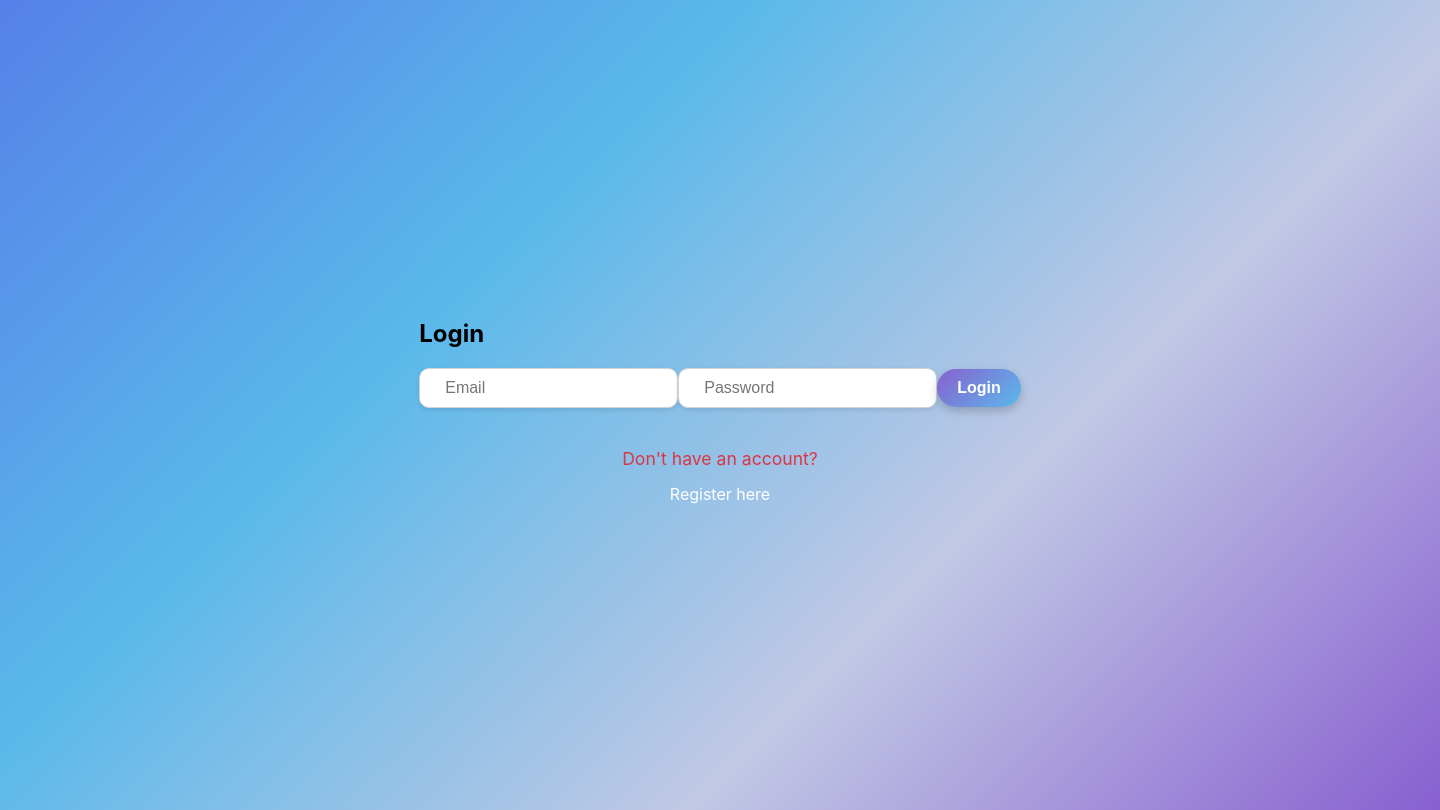
Login Component Tests › successful login
Type "test@example.com" into the field with placeholder "Email".
click(549, 388); type("test@example.com")  # box [419, 368, 678, 408]
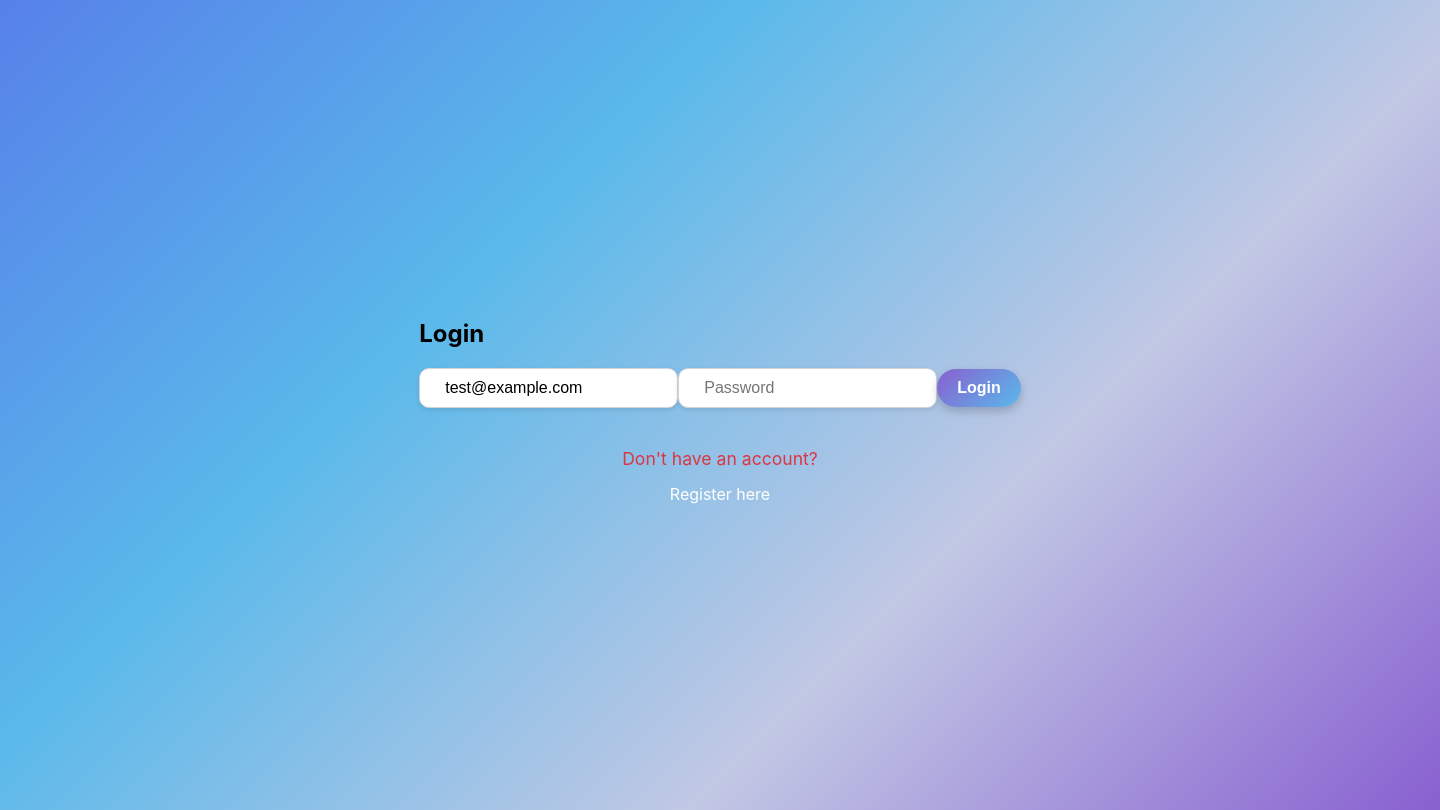
Type "password" into the password field with placeholder "Password".
click(808, 388); type("password")  # box [678, 368, 937, 408]
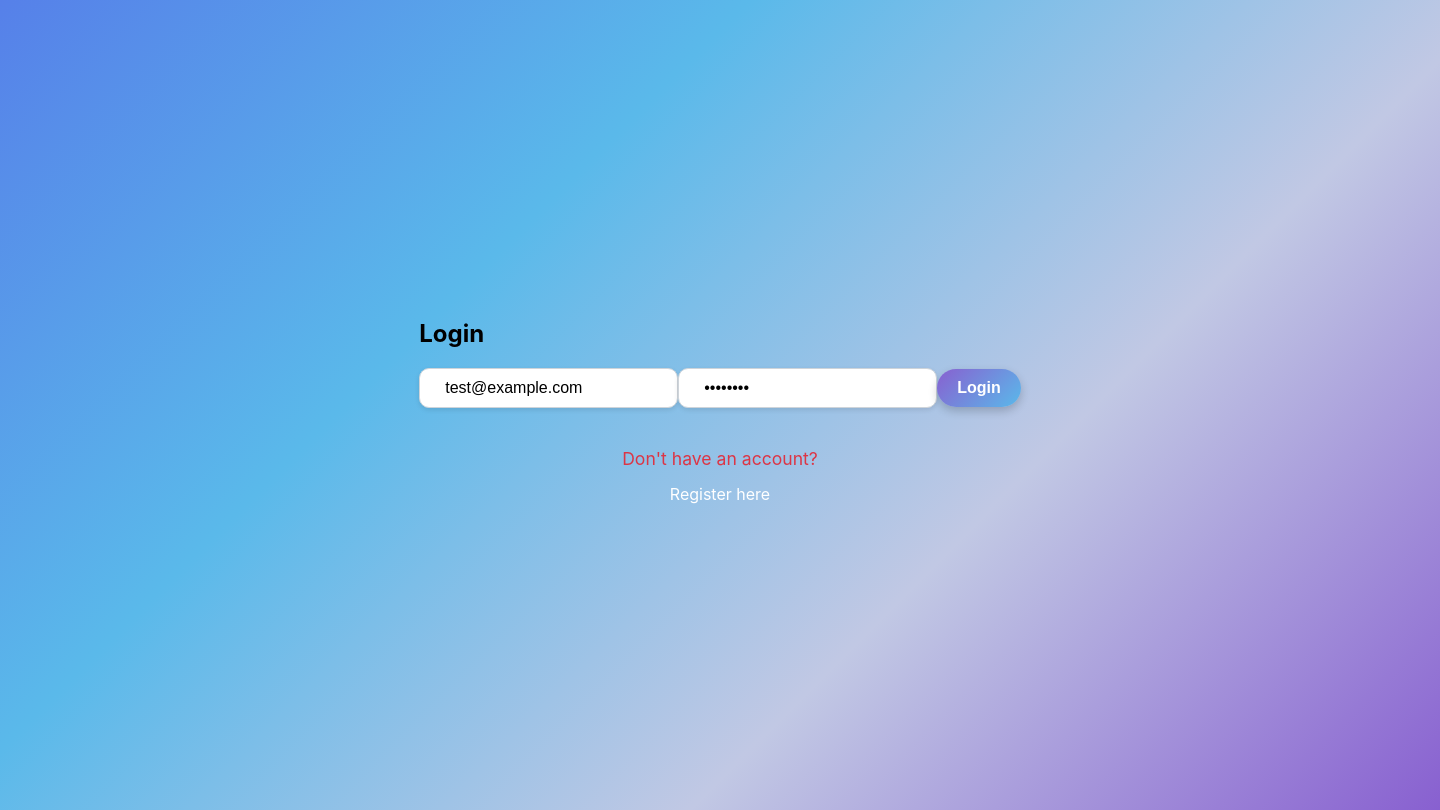
Click the button "Login".
click(979, 388)  # box [937, 369, 1021, 407]
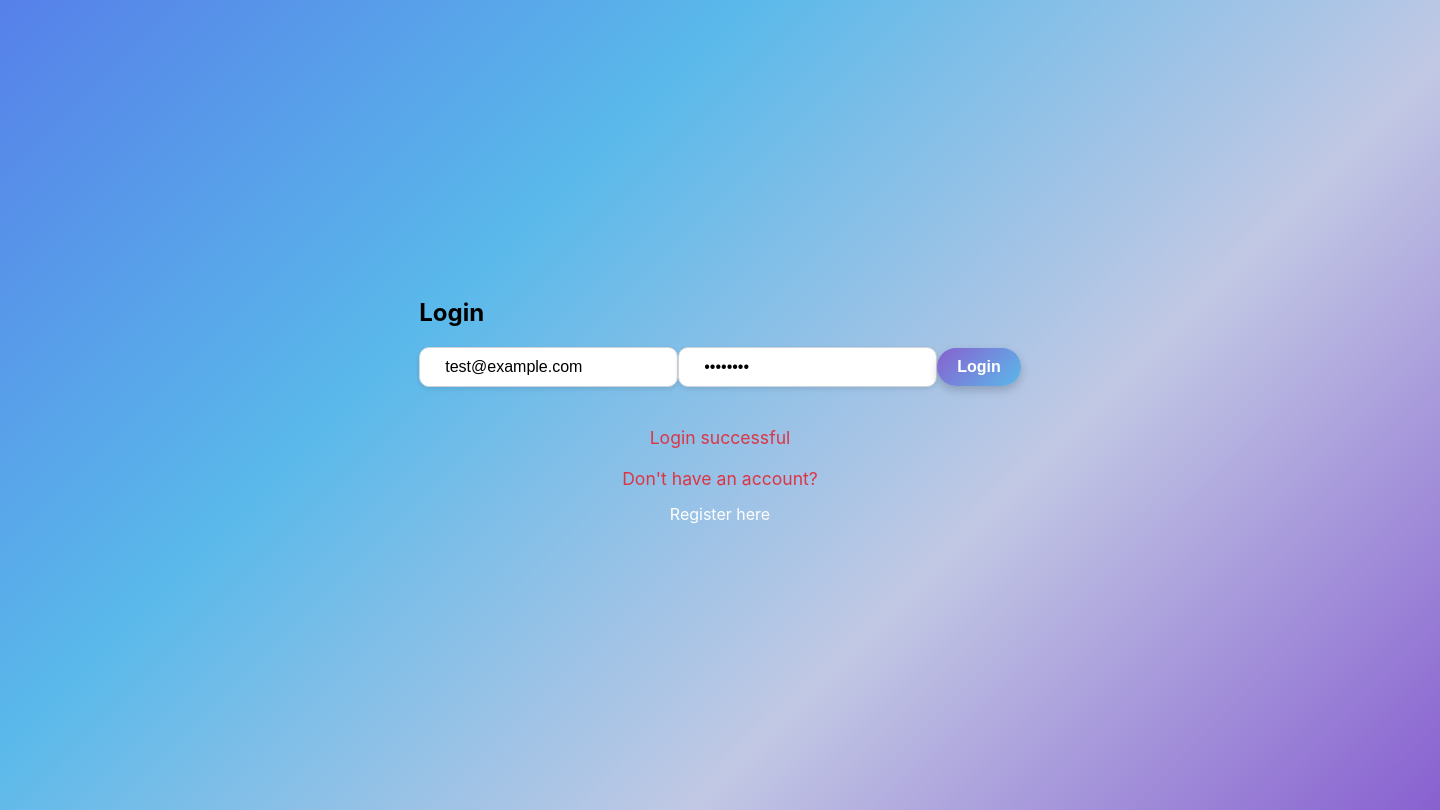
Expected: the text "Login successful" is shown, [650, 427, 790, 448]
